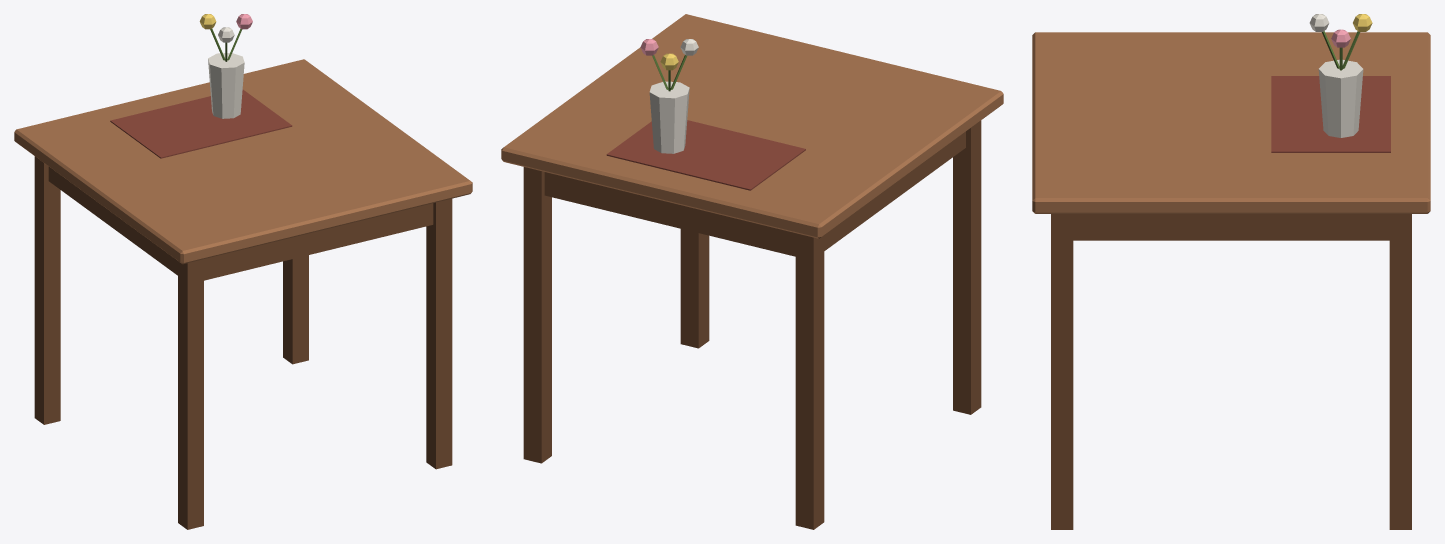
File: dining_table_small.glb
3 views of the same model, side by side, from view 1: azimuth 30°, elevation 25°; view 2: azimuth 150°, elevation 25°; view 3: azimuth 270°, elevation 25° (orthographic). The views are drawn at different scales.
Visible parts, largest first — view 1: DiningTable; view 2: DiningTable; view 3: DiningTable.
Boxes of the visible parts, box(x1,y1,x2,y2) form: DiningTable: box(14, 14, 472, 529); DiningTable: box(501, 14, 1003, 529); DiningTable: box(1032, 14, 1430, 529).
Bounding box in the file's own units: 0.8 × 1 × 0.8.
